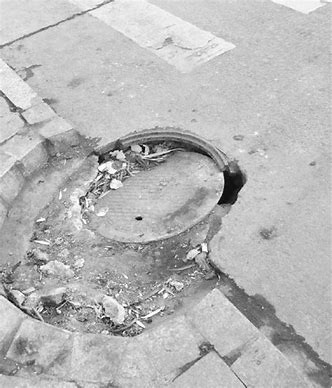circle: (11, 111, 260, 350)
